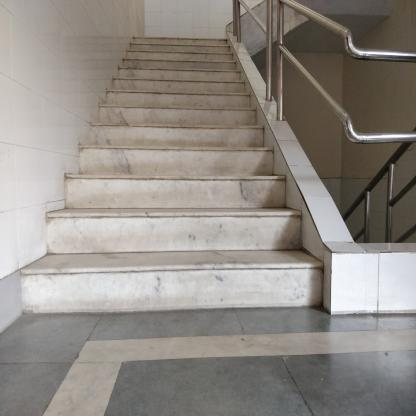stairs: (117, 74, 245, 319)
